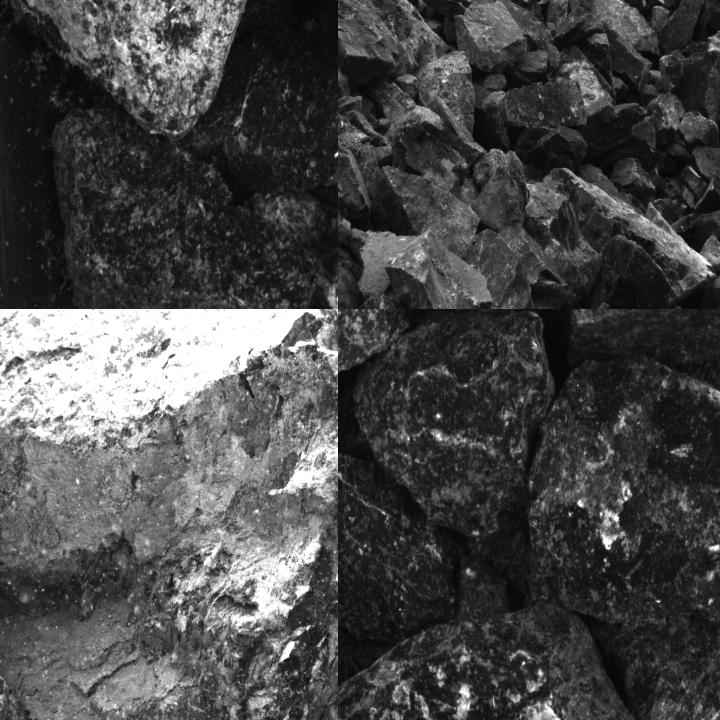stone: (0, 309, 337, 719), (529, 357, 719, 719), (353, 309, 553, 589), (53, 102, 322, 308), (338, 601, 675, 719), (11, 0, 265, 139), (338, 449, 457, 650), (550, 165, 716, 308), (220, 22, 337, 194), (241, 190, 337, 308), (368, 166, 480, 257), (524, 180, 604, 298), (385, 106, 473, 206), (385, 229, 496, 308), (496, 224, 587, 308), (419, 50, 484, 162), (338, 0, 401, 92), (454, 0, 529, 73), (460, 230, 528, 308), (474, 147, 527, 228), (507, 77, 587, 129), (591, 0, 662, 55), (338, 128, 375, 221), (662, 0, 717, 53), (460, 556, 505, 618), (680, 50, 719, 119), (607, 36, 651, 93), (530, 126, 588, 167), (553, 0, 603, 43), (611, 155, 660, 197), (582, 31, 616, 90), (676, 110, 719, 146), (653, 48, 685, 93), (654, 94, 682, 144), (695, 203, 719, 251), (649, 5, 670, 31), (570, 0, 598, 9)
